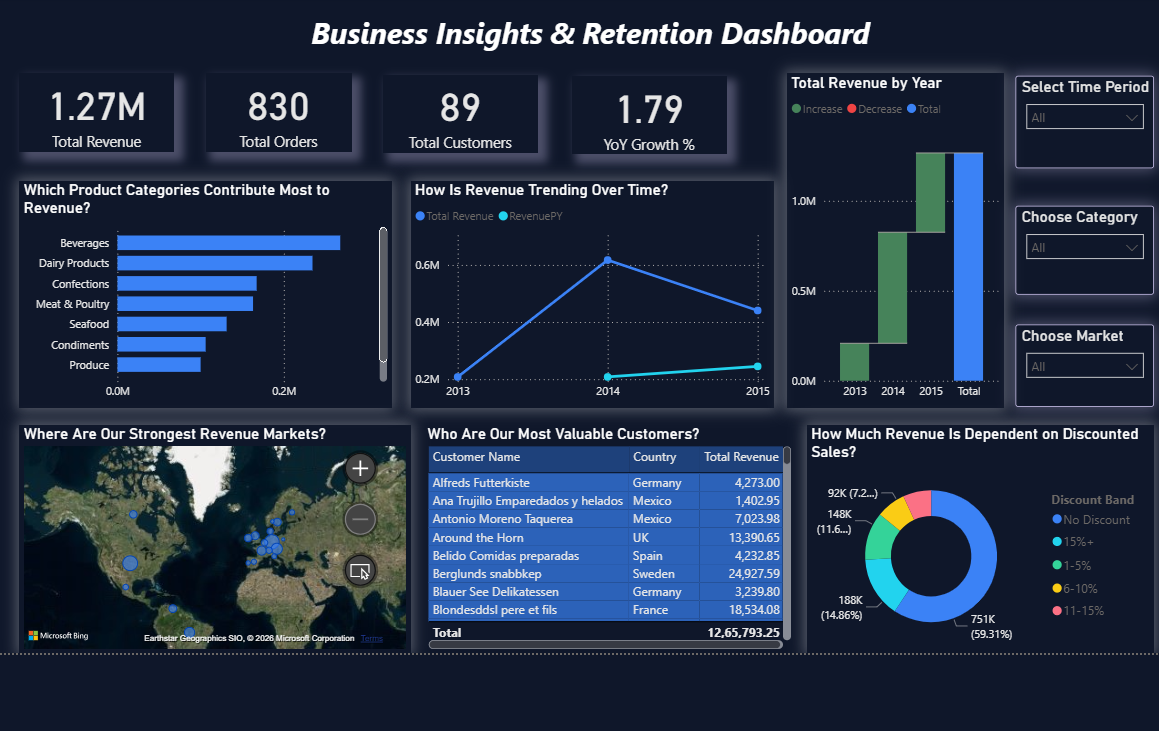

This screenshot's page, from the dashboard's own definition file:
{"tool":"powerbi","page":{"name":"Page 1","canvas":[1280,720],"ordinal":0},"visuals":[{"type":"card","fields":{"Values":["DimCustomer.Total Revenue"]},"box":[23.3,83.7,170.2,86.4],"z":0},{"type":"card","fields":{"Values":["DimCustomer.Total Orders"]},"box":[227.8,83.7,160.5,86.4],"z":1000},{"type":"card","fields":{"Values":["DimCustomer.Total Customers"]},"box":[422.6,85.1,170.2,86.4],"z":2000},{"type":"card","fields":{"Values":["DimCustomer.YoY Growth %"]},"box":[629.8,86.4,170.2,86.4],"z":3000},{"type":"lineChart","title":"How Is Revenue Trending Over Time?","fields":{"Category":["DimDate.Date.Variation.Date Hierarchy.Year","DimDate.Date.Variation.Date Hierarchy.Quarter","DimDate.Date.Variation.Date Hierarchy.Month","DimDate.Date.Variation.Date Hierarchy.Day"],"Y":["DimCustomer.Total Revenue","DimCustomer.RevenuePY"]},"box":[452.8,201.7,399.3,249.7],"z":4000},{"type":"clusteredBarChart","title":"Which Product Categories Contribute Most to Revenue?","fields":{"Y":["DimCustomer.Total Revenue"],"Category":["DimProduct.Category"]},"box":[23.3,201.7,408.9,249.7],"z":5000},{"type":"map","title":"Where Are Our Strongest Revenue Markets?","fields":{"Category":["DimCustomer.Country"],"Size":["DimCustomer.Total Revenue"]},"box":[23.3,469.3,429.5,251.1],"z":6000},{"type":"tableEx","title":"Who Are Our Most Valuable Customers?","fields":{"Values":["DimCustomer.Customer Name","DimCustomer.Country","DimCustomer.Total Revenue"]},"box":[466.6,469.3,408.9,251.1],"z":7000},{"type":"donutChart","title":"How Much Revenue Is Dependent on Discounted Sales?","fields":{"Category":["FactSales.Discount Band"],"Y":["DimCustomer.Total Revenue"]},"box":[887.8,469.3,381.5,251.1],"z":8000},{"type":"slicer","title":"Select Time Period","fields":{"Values":["DimDate.Year"]},"box":[1117,86.4,152.3,101.5],"z":8001},{"type":"slicer","title":"Choose Category","fields":{"Values":["DimProduct.Category"]},"box":[1117,229.2,152.3,97.4],"z":8002},{"type":"slicer","title":"Choose Market","fields":{"Values":["DimCustomer.Country"]},"box":[1117,359.5,152.3,90.6],"z":8003},{"type":"waterfallChart","fields":{"Category":["DimDate.Date.Variation.Date Hierarchy.Year"],"Y":["DimCustomer.Total Revenue"]},"box":[865.9,83.7,238.8,367.8],"z":8004},{"type":"textbox","box":[108.4,12.3,1084.1,60.4],"z":8005}]}

Visuals, with their boxes on the page's 1280x720 design canvas (x1, y1, x2, y2). These are canvas units, not pixel positions in the 1159x731 screenshot, which may show the page scaled, cropped or inside an application window:
card - DimCustomer.Total Revenue: bbox=(23, 84, 194, 170)
card - DimCustomer.Total Orders: bbox=(228, 84, 388, 170)
card - DimCustomer.Total Customers: bbox=(423, 85, 593, 172)
card - DimCustomer.YoY Growth %: bbox=(630, 86, 800, 173)
"How Is Revenue Trending Over Time?" lineChart: bbox=(453, 202, 852, 451)
"Which Product Categories Contribute Most to Revenue?" clusteredBarChart: bbox=(23, 202, 432, 451)
"Where Are Our Strongest Revenue Markets?" map: bbox=(23, 469, 453, 720)
"Who Are Our Most Valuable Customers?" tableEx: bbox=(467, 469, 876, 720)
"How Much Revenue Is Dependent on Discounted Sales?" donutChart: bbox=(888, 469, 1269, 720)
"Select Time Period" slicer: bbox=(1117, 86, 1269, 188)
"Choose Category" slicer: bbox=(1117, 229, 1269, 327)
"Choose Market" slicer: bbox=(1117, 360, 1269, 450)
waterfallChart - DimDate.Date.Variation.Date Hierarchy.Year x DimCustomer.Total Revenue: bbox=(866, 84, 1105, 452)
textbox: bbox=(108, 12, 1192, 73)
